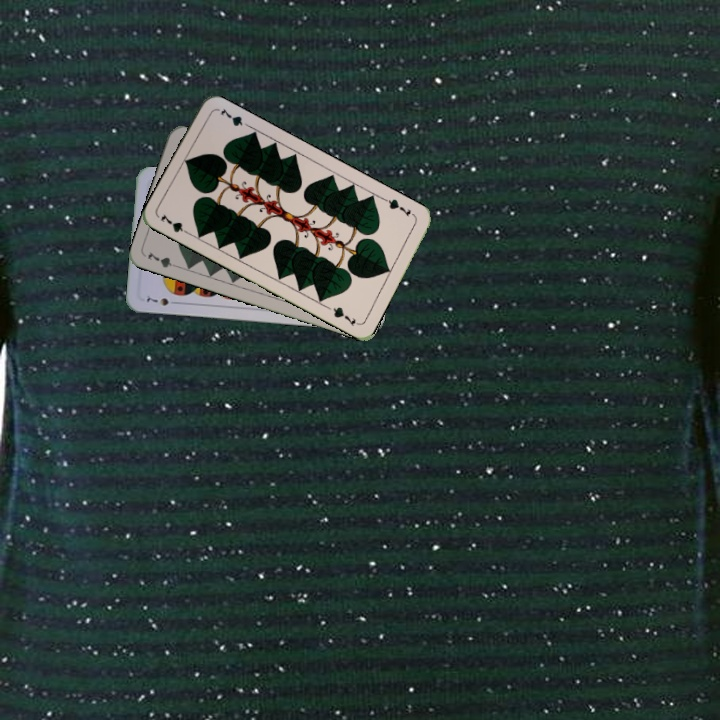G7: (156, 209, 194, 238), (143, 247, 183, 271), (380, 194, 414, 220)
S7: (142, 293, 181, 308)
